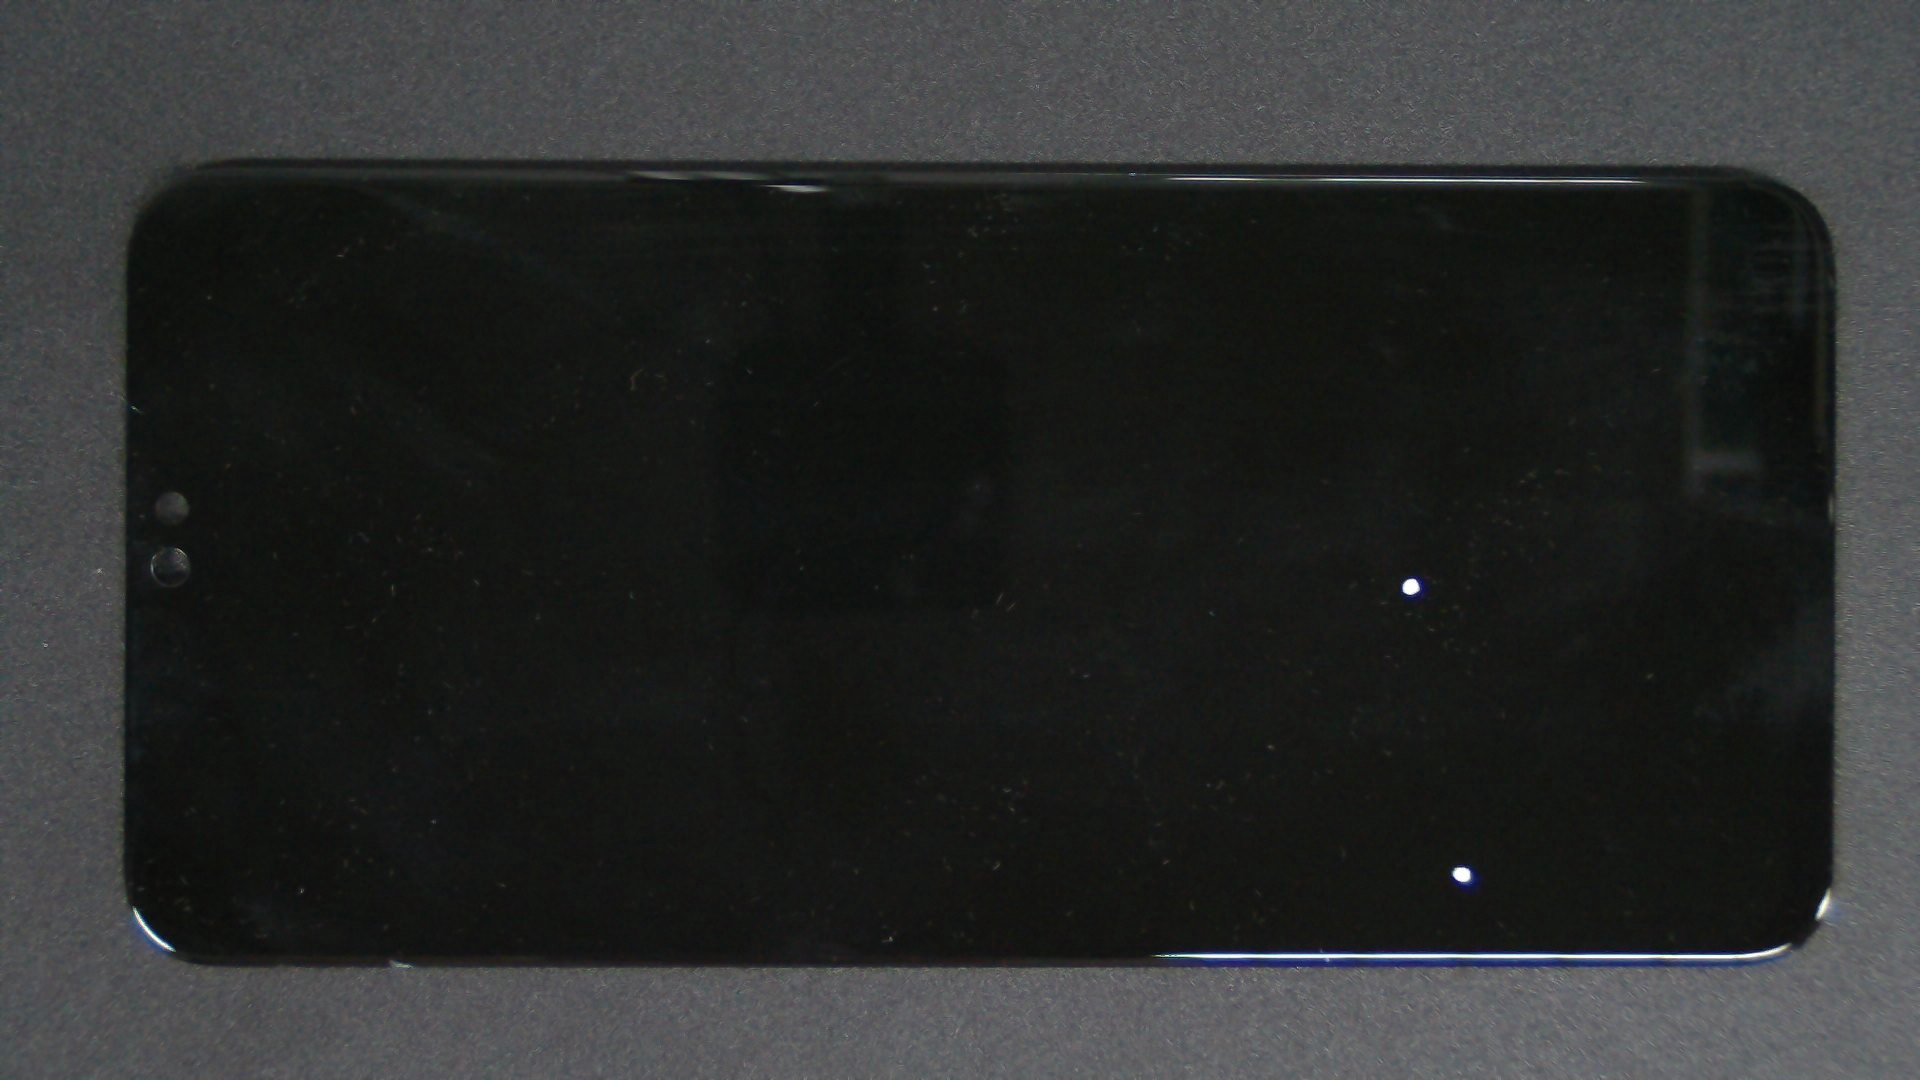oil: (728, 433, 1920, 1080), (707, 287, 1920, 866)
